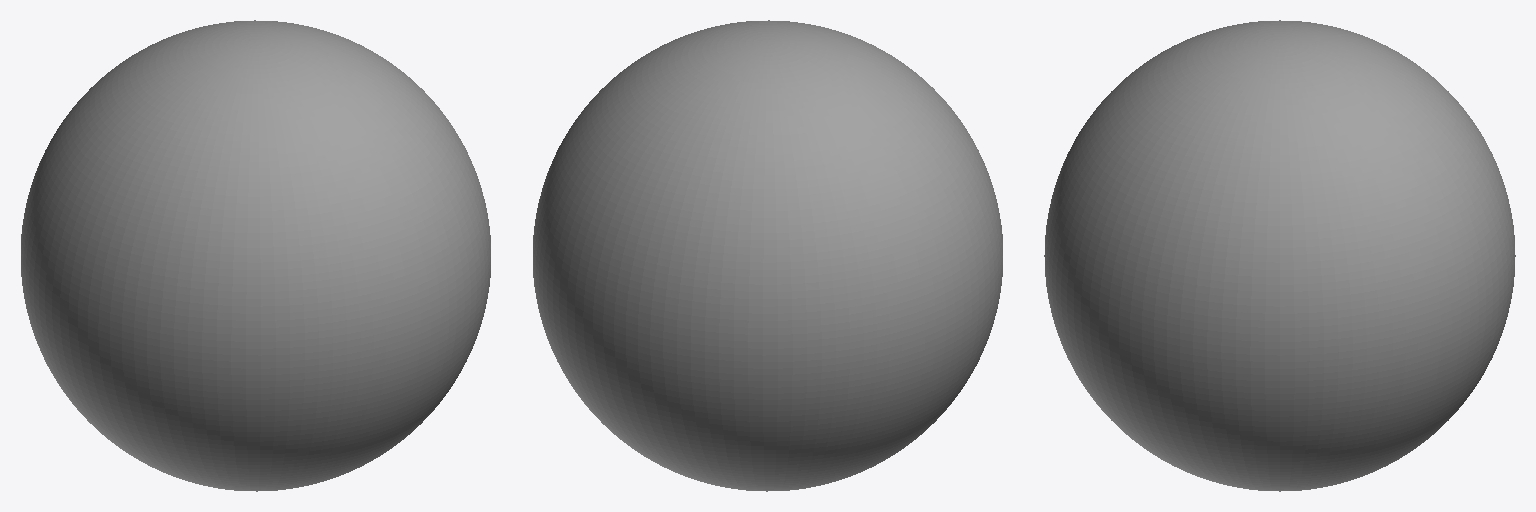
The model's file is sphere_high_res.obj.
3 renders of one model, left to right at view 1: azimuth 30°, elevation 25°; view 2: azimuth 150°, elevation 25°; view 3: azimuth 270°, elevation 25°, orthographic.
Parts seen in each view (by area): view 1: Sphere; view 2: Sphere; view 3: Sphere.
Boxes of the visible parts, box(x1,y1,x2,y2) form: Sphere: box(21, 20, 490, 491); Sphere: box(533, 20, 1002, 491); Sphere: box(1044, 20, 1515, 491).
Bounding box in the file's own units: 2 × 2 × 2.